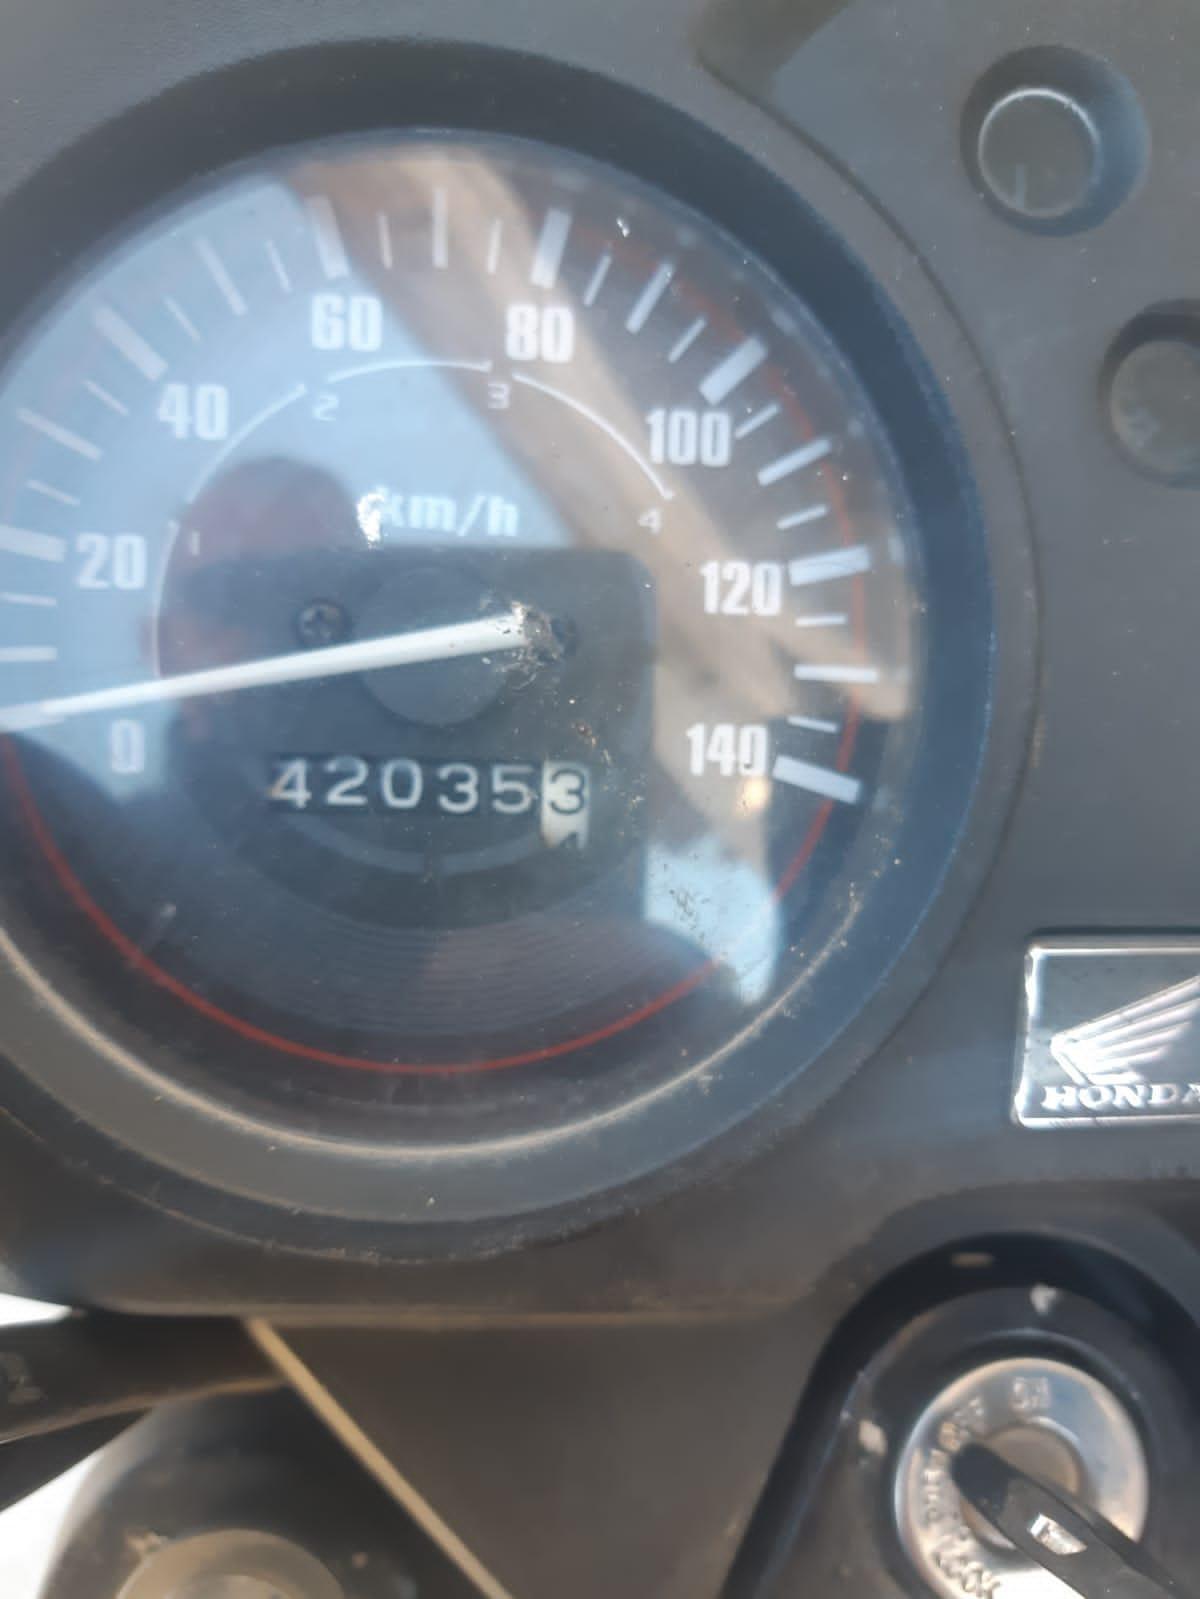0: (381, 757, 424, 810)
2: (324, 755, 371, 806)
3: (436, 761, 480, 814), (548, 765, 586, 817)
4: (272, 756, 311, 808)
5: (492, 764, 534, 815)
odometer: (248, 742, 601, 835)
